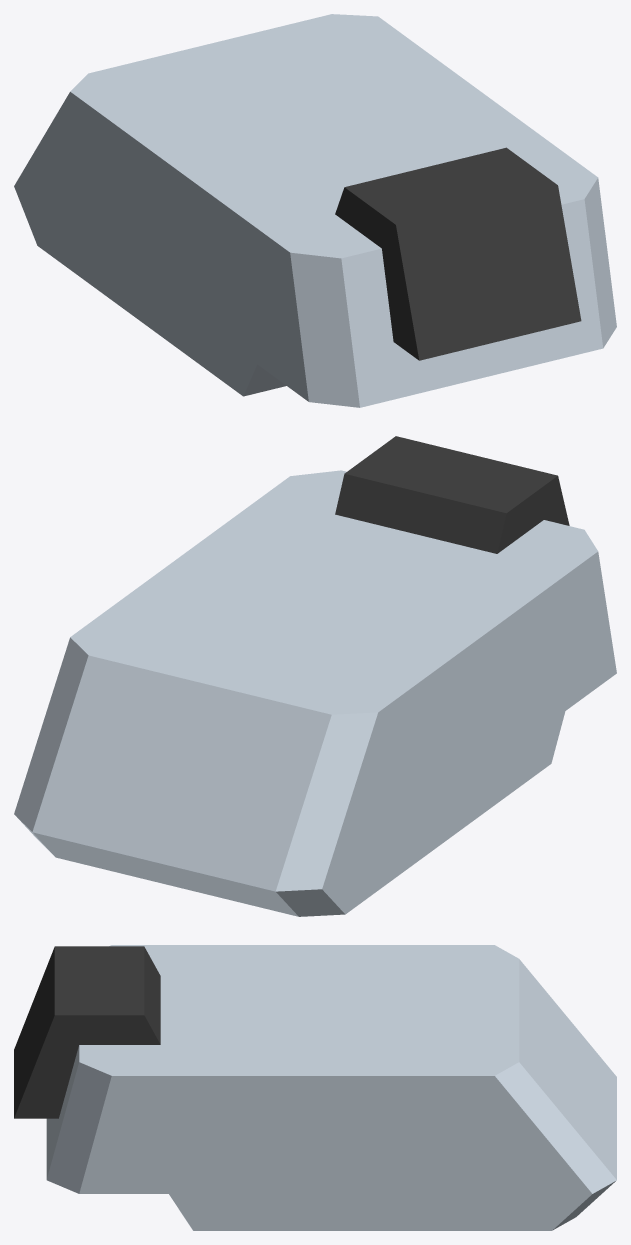
The model's file is Battery.FBX.
3 renders of one model, top to bottom at view 1: azimuth 30°, elevation 25°; view 2: azimuth 150°, elevation 25°; view 3: azimuth 270°, elevation 25°, orthographic. The views are drawn at different scales.
Visible parts, largest first — view 1: VIFS002, VIFS001; view 2: VIFS002, VIFS001; view 3: VIFS002, VIFS001.
Part boxes in pixels (x1,y1,x2,y2): VIFS002: [14, 14, 616, 407]; VIFS001: [335, 147, 581, 360]; VIFS002: [14, 470, 616, 916]; VIFS001: [335, 436, 569, 553]; VIFS002: [46, 945, 616, 1230]; VIFS001: [14, 946, 160, 1118].
Bounding box in the file's own units: 0.95 × 0.625 × 1.85.
